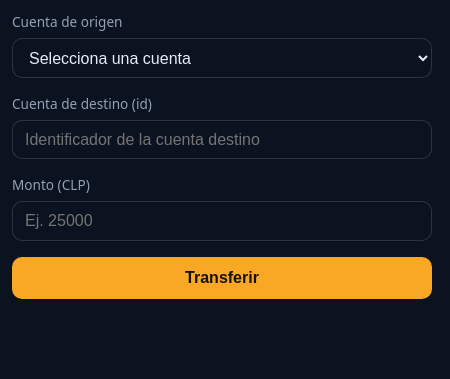
FormularioTransferencia › muestra el feedback de error devuelto por la acción
Select "CORRIENTE · Banco Estado · acc-1111…" in the dropdown labelled "Cuenta de origen" at (222, 58), box [12,38,432,78]
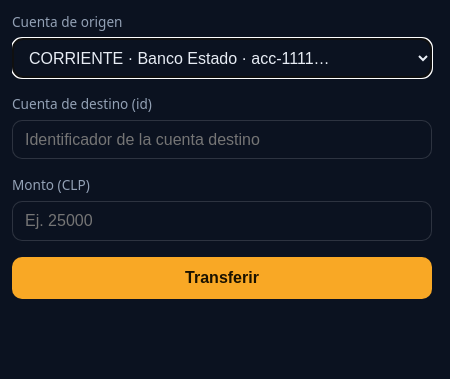
Type "acc-99999999-0000" into the field labelled "Cuenta de destino (id)" at (222, 140), box [12,120,432,159]
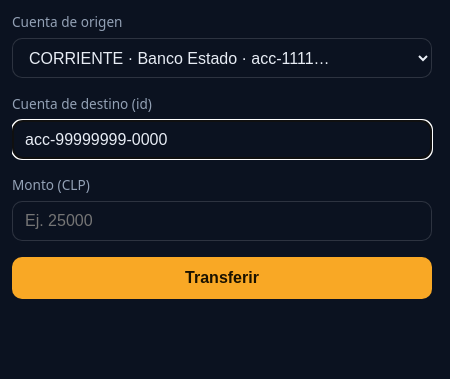
Type "25000" into the number field labelled "Monto (CLP)" at (222, 221), box [12,201,432,240]
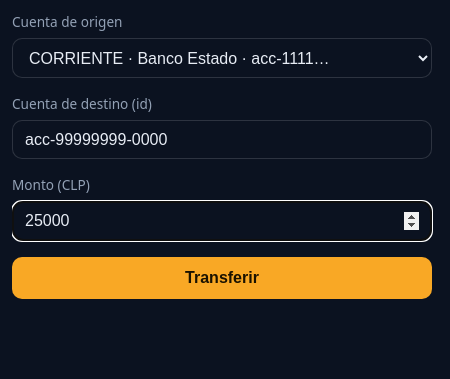
Click the button "Transferir" at (222, 278), box [12,256,432,298]
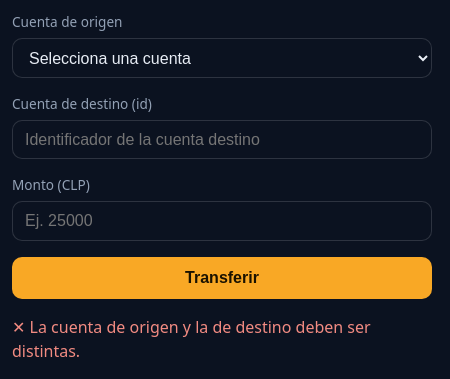
Expected: the text "✕ La cuenta de origen y la de destino deben ser distintas." is shown, [12,314,432,362]
